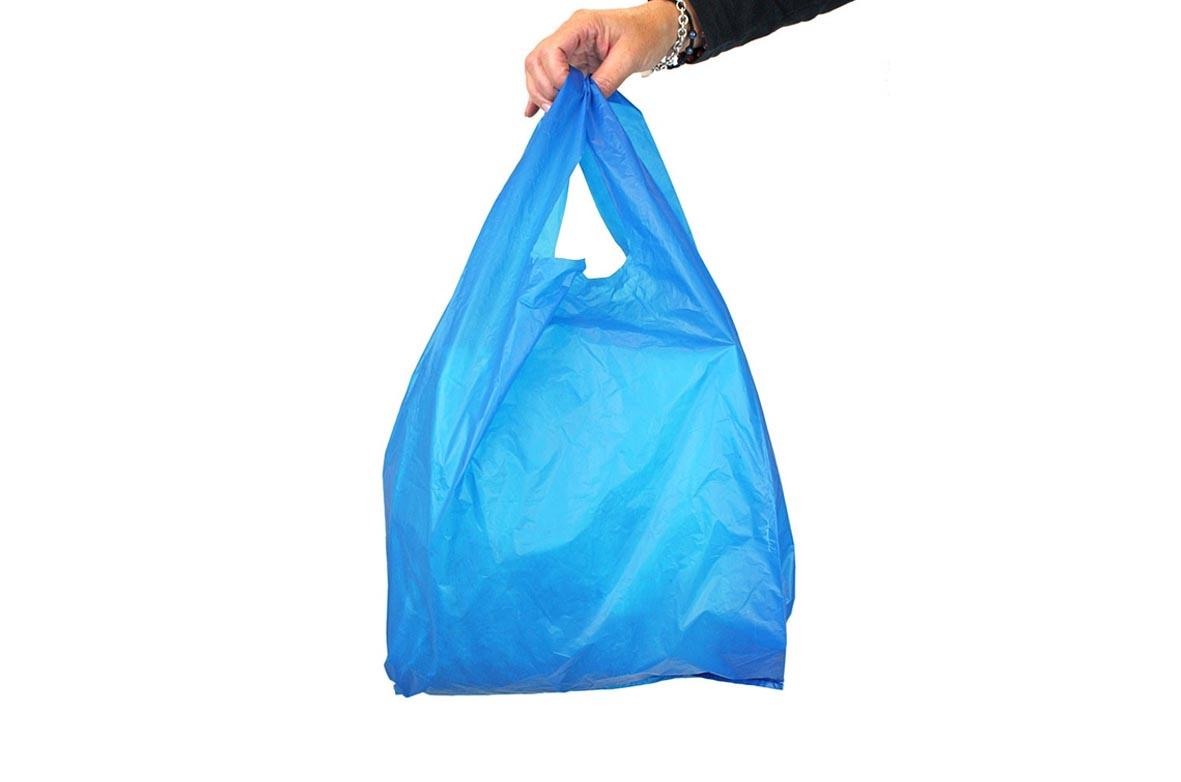LDPE: (375, 72, 798, 699)
